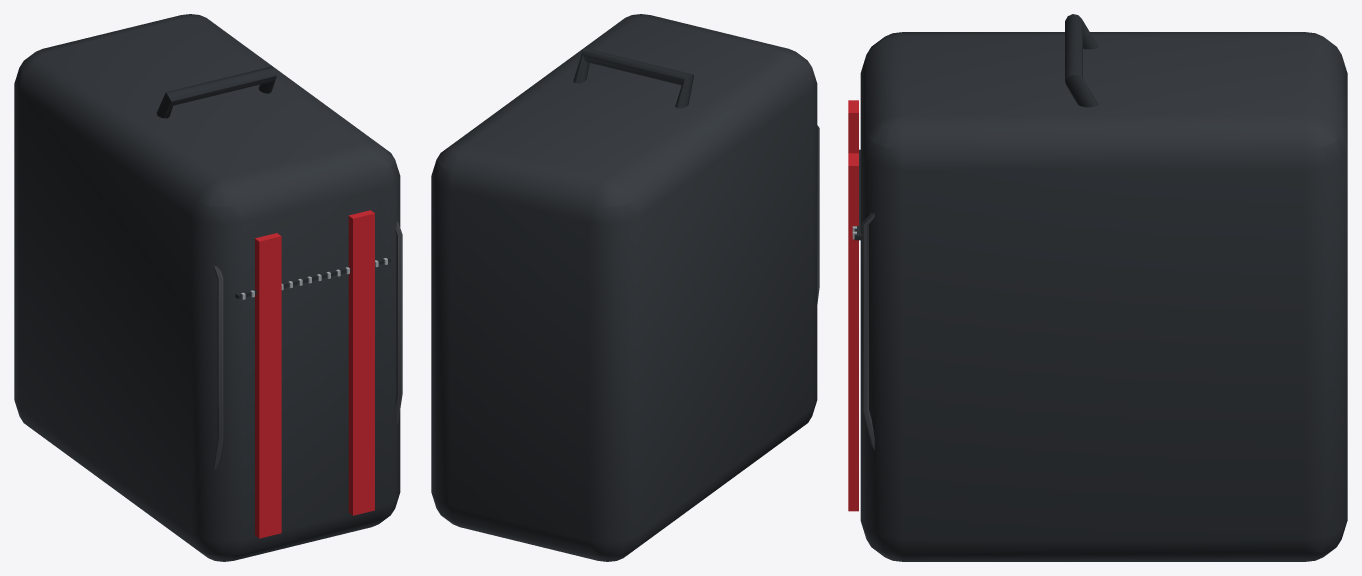
The model's file is ob_black_bag_g5_1.glb.
3 views of the same model, side by side, from view 1: azimuth 30°, elevation 25°; view 2: azimuth 150°, elevation 25°; view 3: azimuth 270°, elevation 25° (orthographic). The views are drawn at different scales.
Visible parts, largest first — view 1: ob_black_bag_g5_1; view 2: ob_black_bag_g5_1; view 3: ob_black_bag_g5_1.
Part boxes in pixels (box(x1,y1,x2,y2)): ob_black_bag_g5_1: box(14, 14, 402, 561); ob_black_bag_g5_1: box(431, 14, 819, 561); ob_black_bag_g5_1: box(848, 14, 1347, 561).
Bounding box in the file's own units: 0.23 × 0.44 × 0.42.
